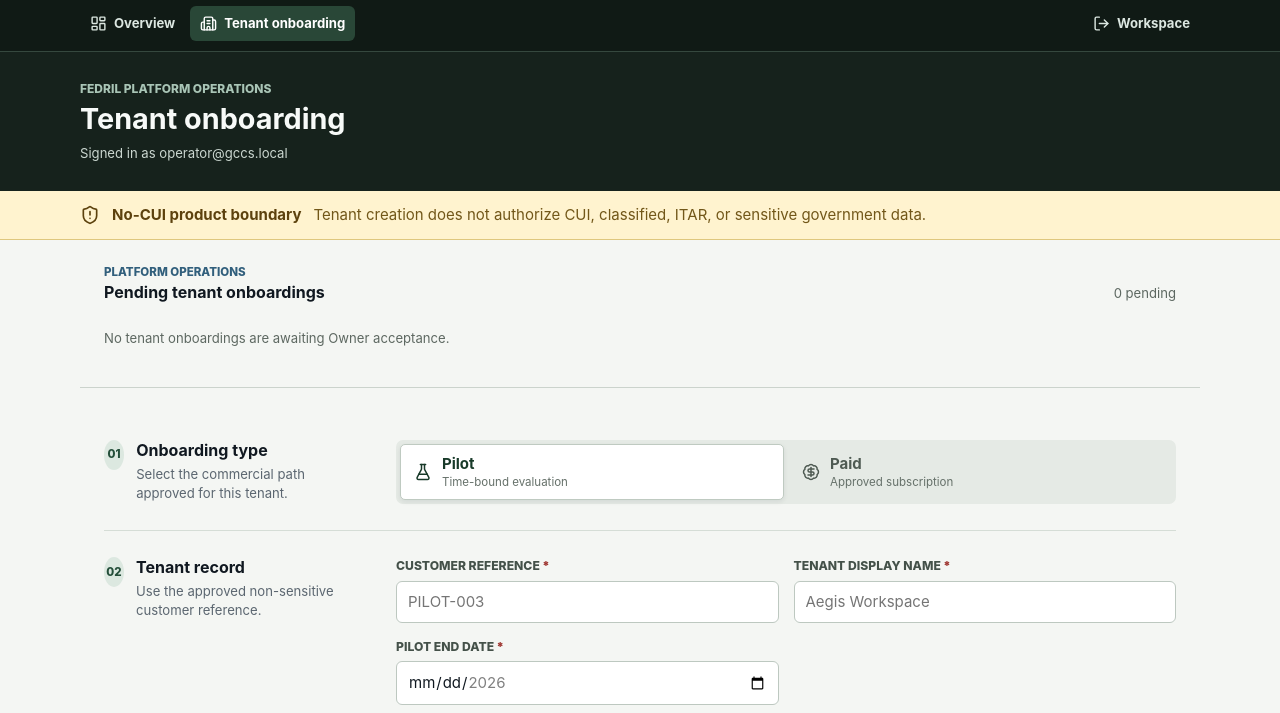
PlatformTenantAdminPage › shows paid-only fields and commercial confirmation when Paid is selected
Check: the heading "Tenant onboarding" is shown, box [80,102,346,137]
Click the radio button labelled "Paid Approved subscription". click: point(846, 463)
box: [788,444,1172,500]
(page scrolled)
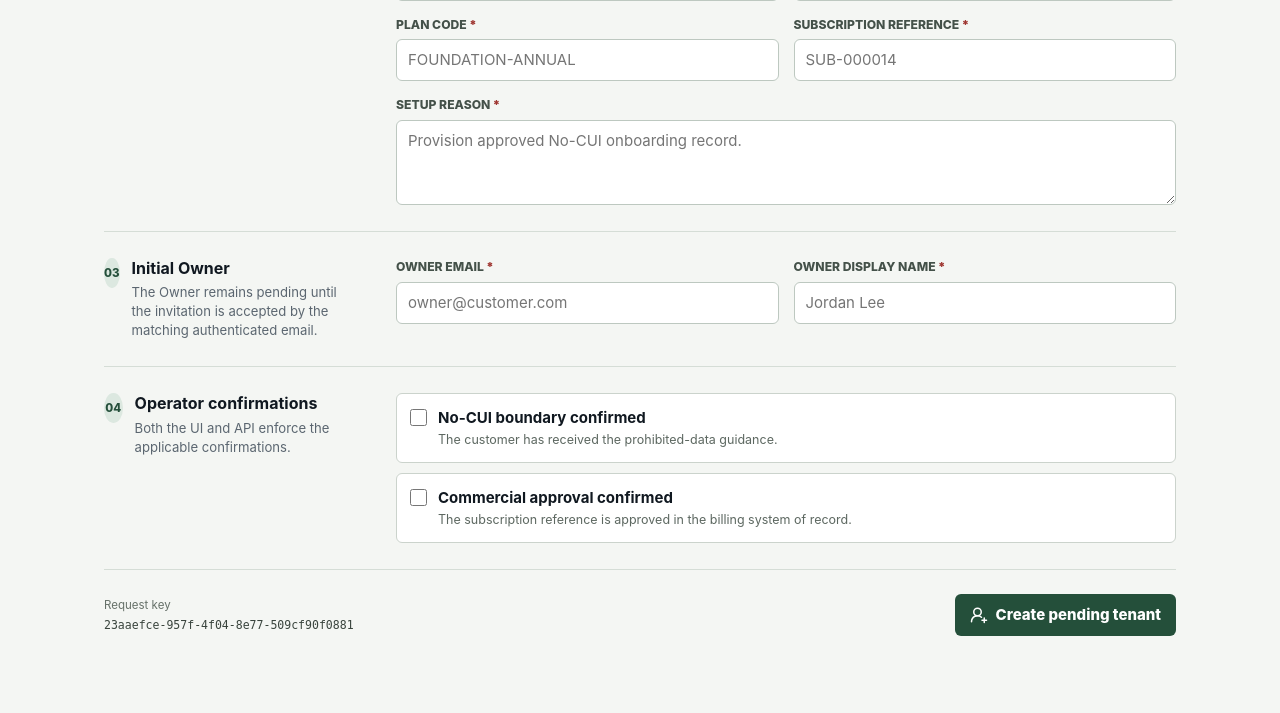
Check: the field labelled "Plan code" is shown, box [396,39,778,81]
Check: the checkbox labelled "Commercial approval confirmed" is shown, box [410,489,427,506]
Check: the text labelled "Pilot end date" is gone
